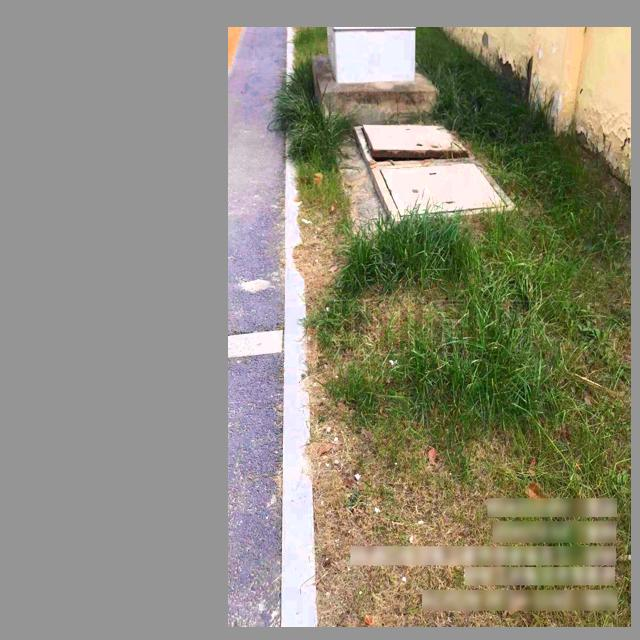good: (370, 159, 518, 224)
uncovered: (355, 122, 474, 163)
